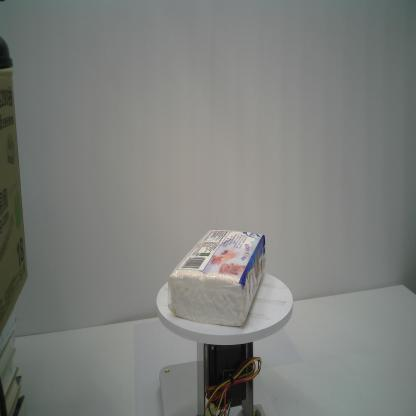Tissue: (166, 226, 267, 330)
